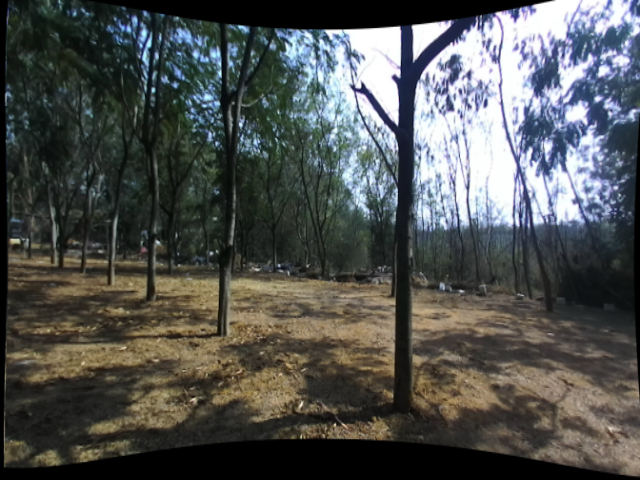tree: (336, 52, 467, 423), (185, 71, 265, 350), (127, 108, 172, 307)
